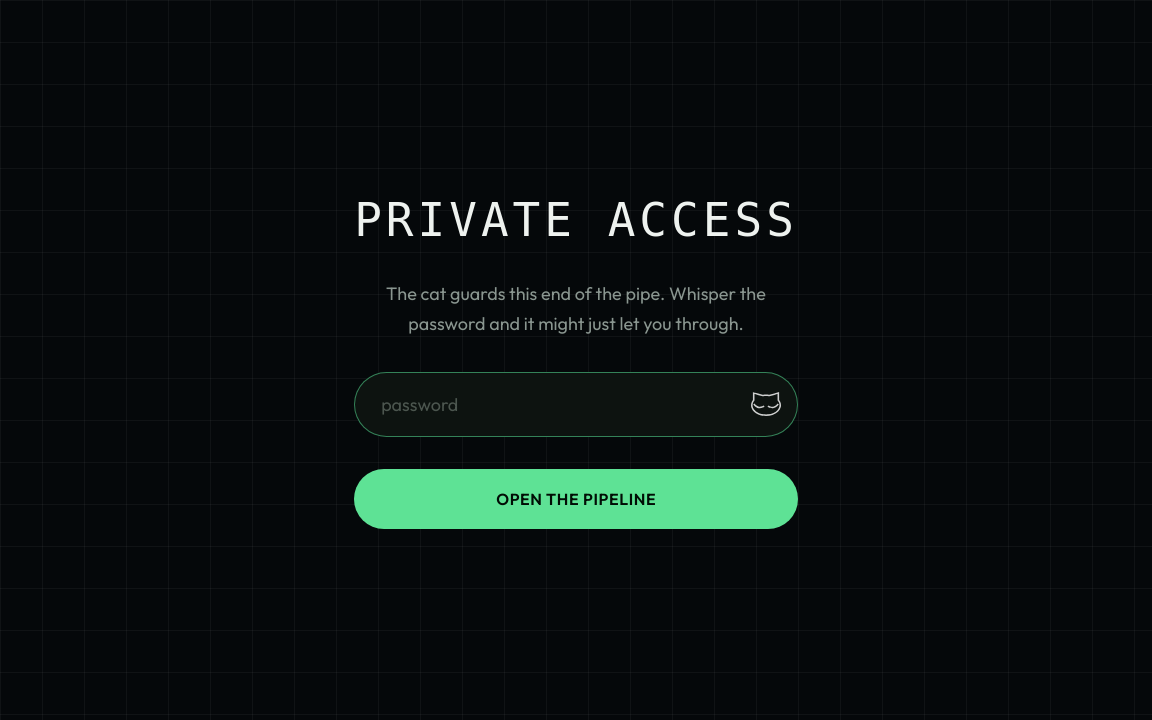
Test: LoginPage › shows a wrong-password error and clears the field on a 401
In the password field labelled "password": {"x": 576, "y": 404} left=354, top=372, right=798, bottom=437, type "nope"
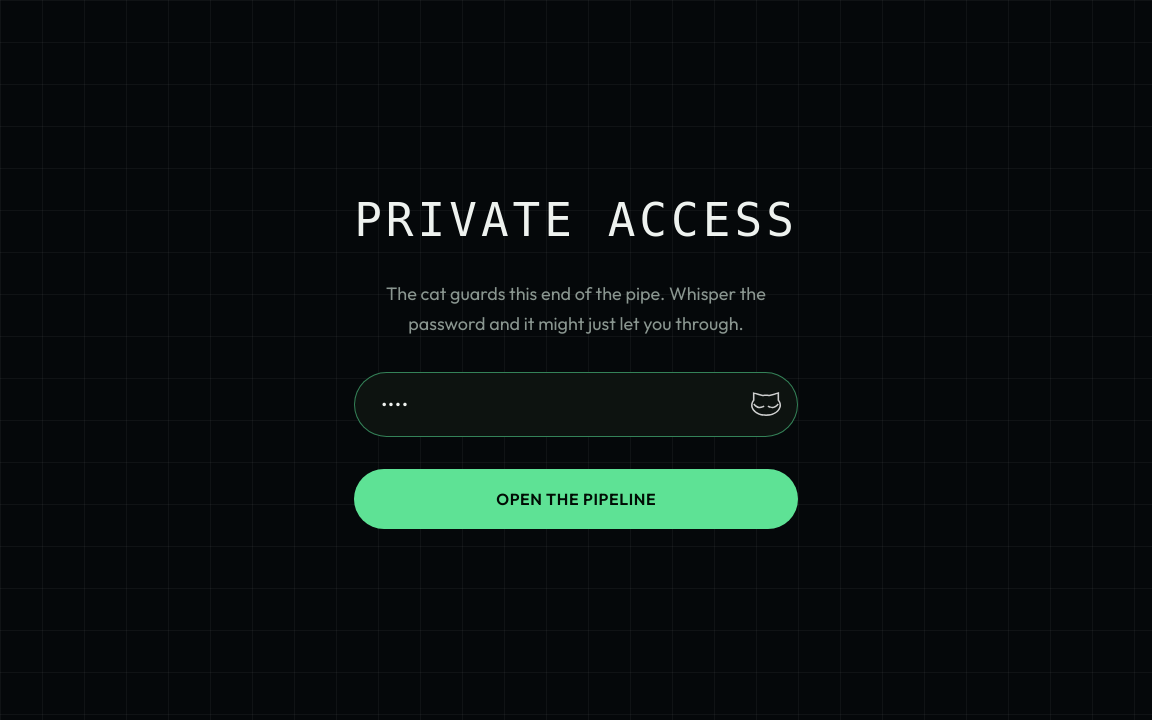
Click the button "OPEN THE PIPELINE": {"x": 576, "y": 499} left=354, top=469, right=798, bottom=529
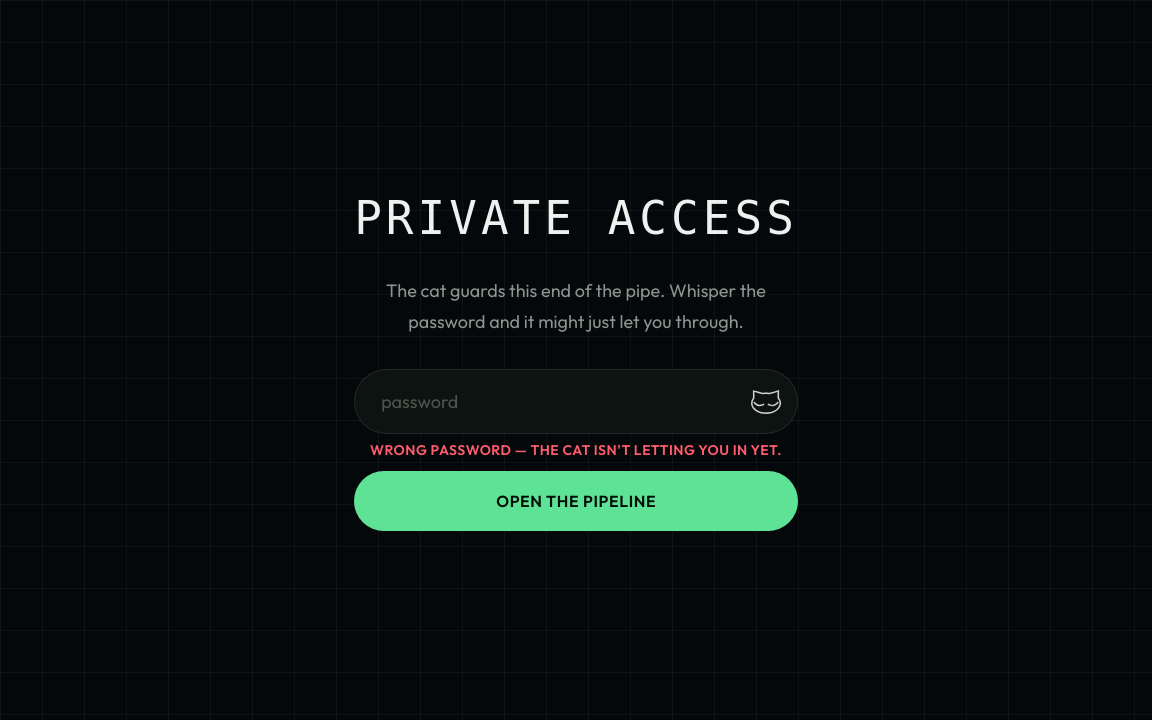
Now the text "WRONG PASSWORD — THE CAT ISN'T LETTING YOU IN YET." is shown, box left=354, top=440, right=798, bottom=462
Now the password field labelled "password" is empty, box left=354, top=370, right=798, bottom=434
